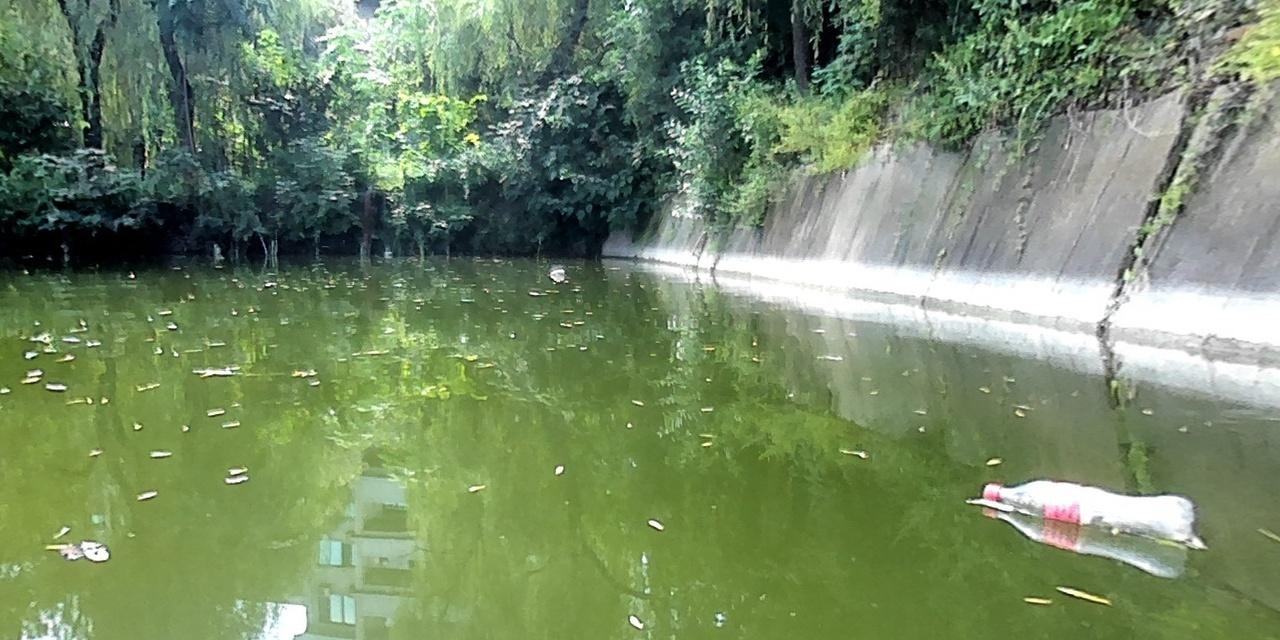bottle: (979, 473, 1200, 552), (546, 264, 565, 277)
